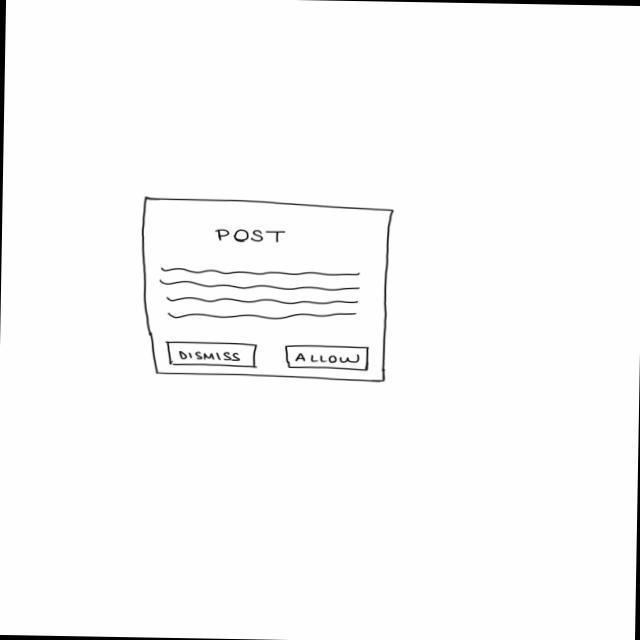button: (165, 340, 260, 371), (285, 344, 372, 373)
container: (136, 196, 398, 387)
label: (217, 228, 290, 248)
textbox: (160, 265, 363, 324)
